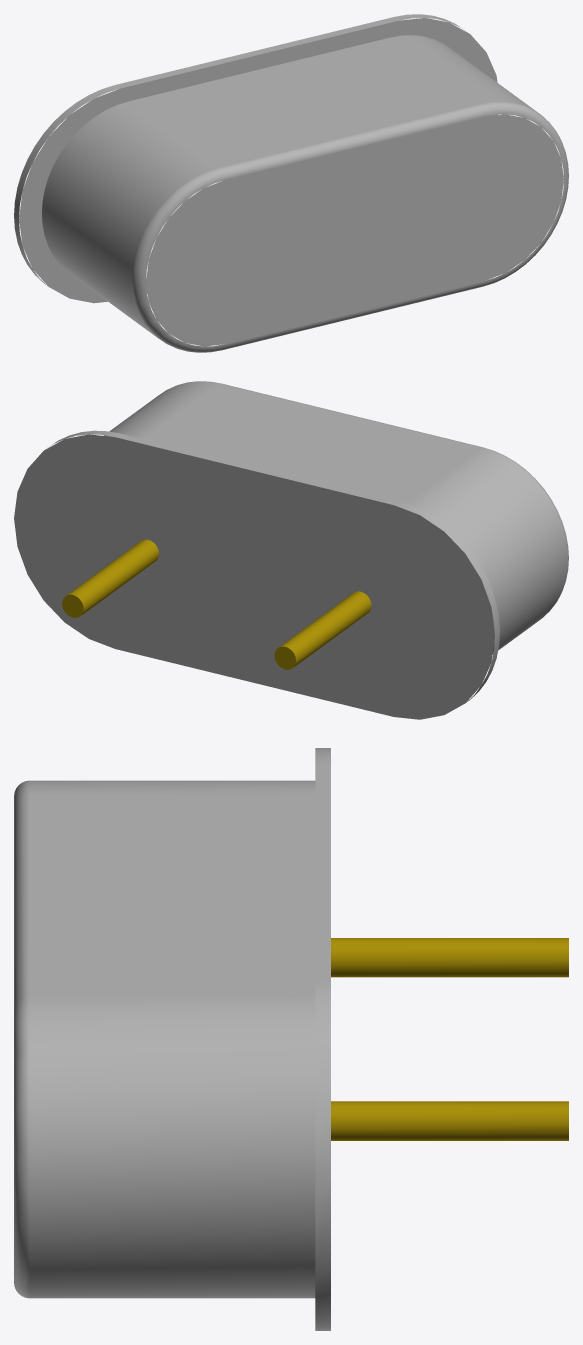
File: crystal-hc49-4h-v.glb
The picture shows the model from 3 angles, top to bottom: view 1: azimuth 30°, elevation 25°; view 2: azimuth 150°, elevation 25°; view 3: azimuth 270°, elevation 25°; orthographic projection. The views are drawn at different scales.
Parts seen in each view (by area): view 1: MAT-717171; view 2: MAT-717171, MAT-664600 (×3); view 3: MAT-717171, MAT-664600 (×2).
Part boxes in pixels (x1,y1,x2,y2): MAT-717171: (14,14,568,352); MAT-717171: (14,381,568,719); MAT-664600 (×3): (62,539,371,669); MAT-717171: (14,748,330,1330); MAT-664600 (×2): (331,938,568,1140).
Bounding box in the file's own units: 11.05 × 4.65 × 7.
